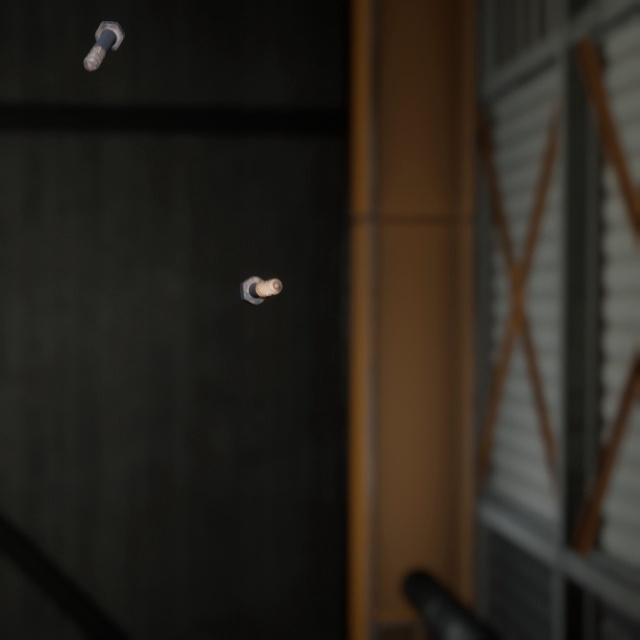bolt: (78, 8, 129, 66), (235, 254, 286, 293)
